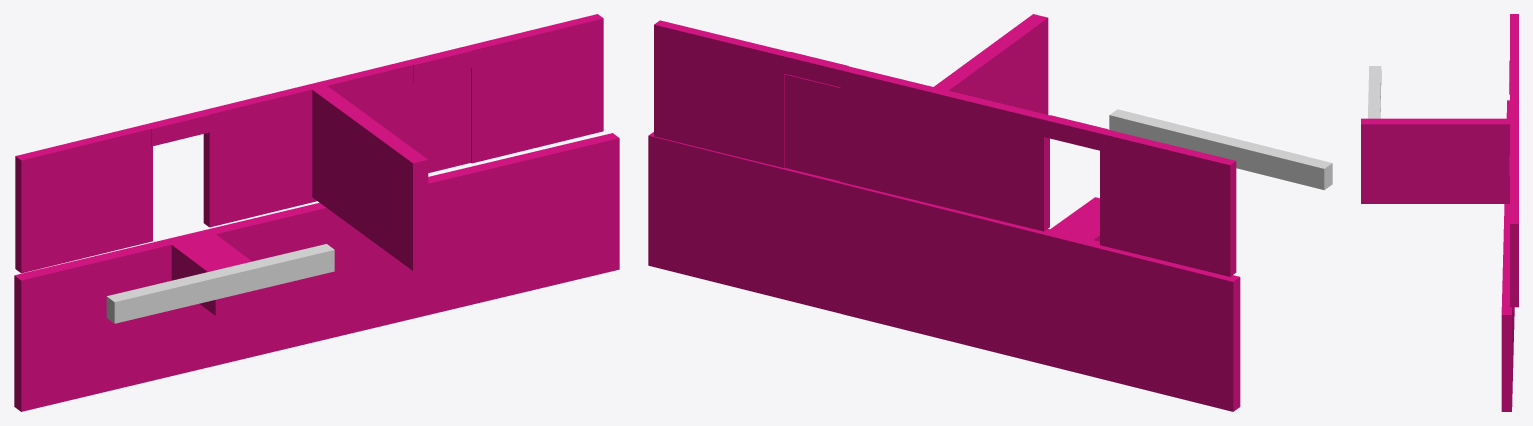
File: 移动板子.fbx
3 views of the same model, side by side, from view 1: azimuth 30°, elevation 25°; view 2: azimuth 150°, elevation 25°; view 3: azimuth 270°, elevation 25° (orthographic). The views are drawn at different scales.
Visible parts, largest first — view 1: 立方体.253, 立方体.157; view 2: 立方体.253, 立方体.157; view 3: 立方体.253, 立方体.157.
Part boxes in pixels (x1,y1,x2,y2): 立方体.253: [14, 14, 619, 411]; 立方体.157: [106, 244, 334, 323]; 立方体.253: [648, 14, 1240, 411]; 立方体.157: [1109, 109, 1332, 190]; 立方体.253: [1361, 14, 1518, 411]; 立方体.157: [1367, 66, 1381, 118].
Bounding box in the file's own units: 2730 × 1094 × 850.
